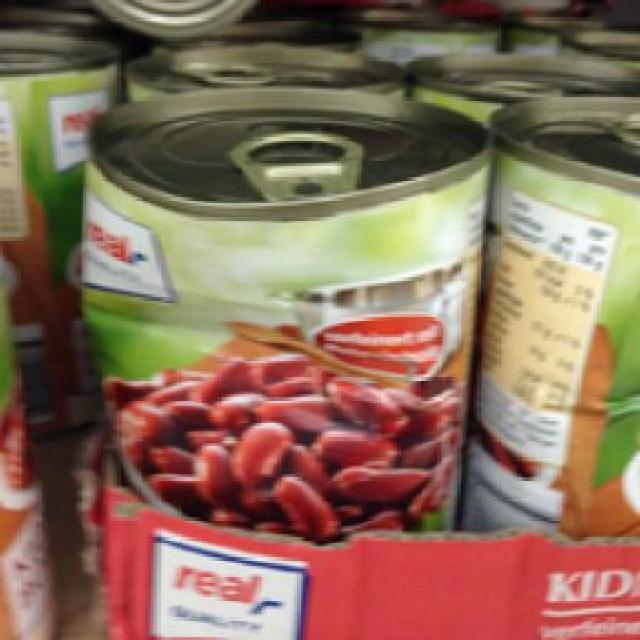Beans: (80, 89, 489, 540)
